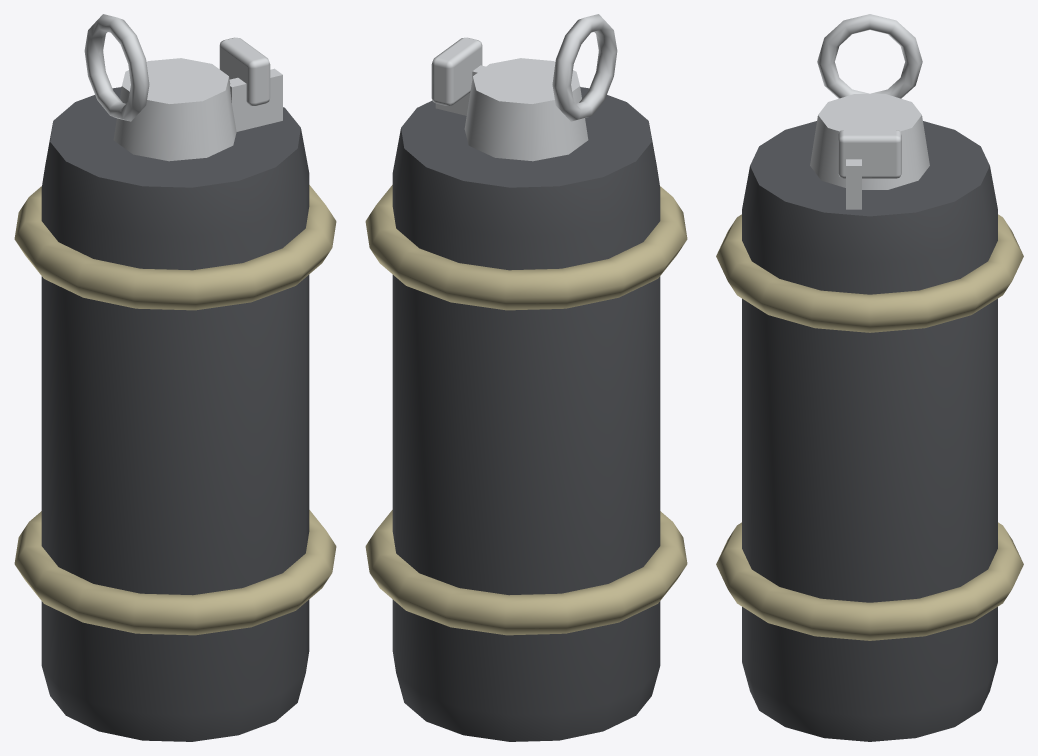
The model's file is tactical-shooter-hill-town-smoke-grenade-fa3e11eb__27557.glb.
The picture shows the model from 3 angles, left to right: view 1: azimuth 30°, elevation 25°; view 2: azimuth 150°, elevation 25°; view 3: azimuth 270°, elevation 25°; orthographic projection. The views are drawn at different scales.
Parts seen in each view (by area): view 1: smoke-grenade; view 2: smoke-grenade; view 3: smoke-grenade.
Boxes of the visible parts, x1=… form: smoke-grenade: x1=14, y1=14, x2=336, y2=741; smoke-grenade: x1=365, y1=14, x2=687, y2=741; smoke-grenade: x1=716, y1=14, x2=1023, y2=741.
Size of the model in its own units: 0.077 by 0.1794 by 0.077.
